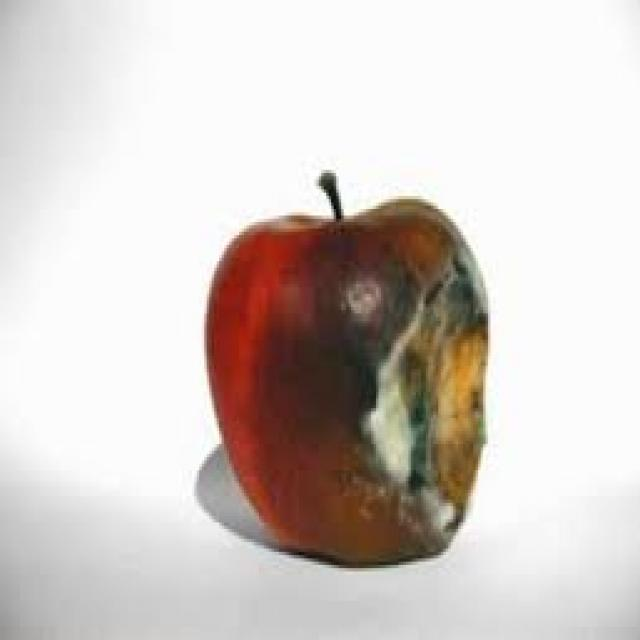organic waste: (202, 170, 486, 565)
